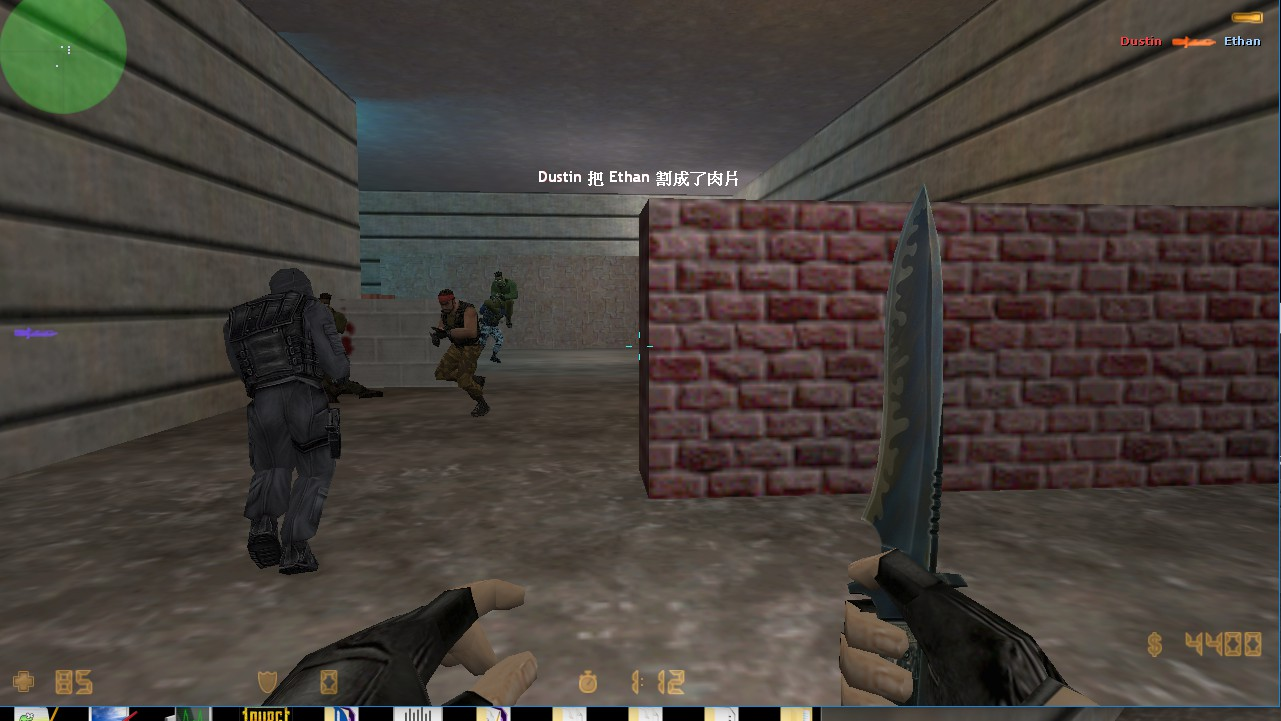person: (208, 250, 352, 585), (424, 290, 493, 425), (482, 268, 524, 328)
